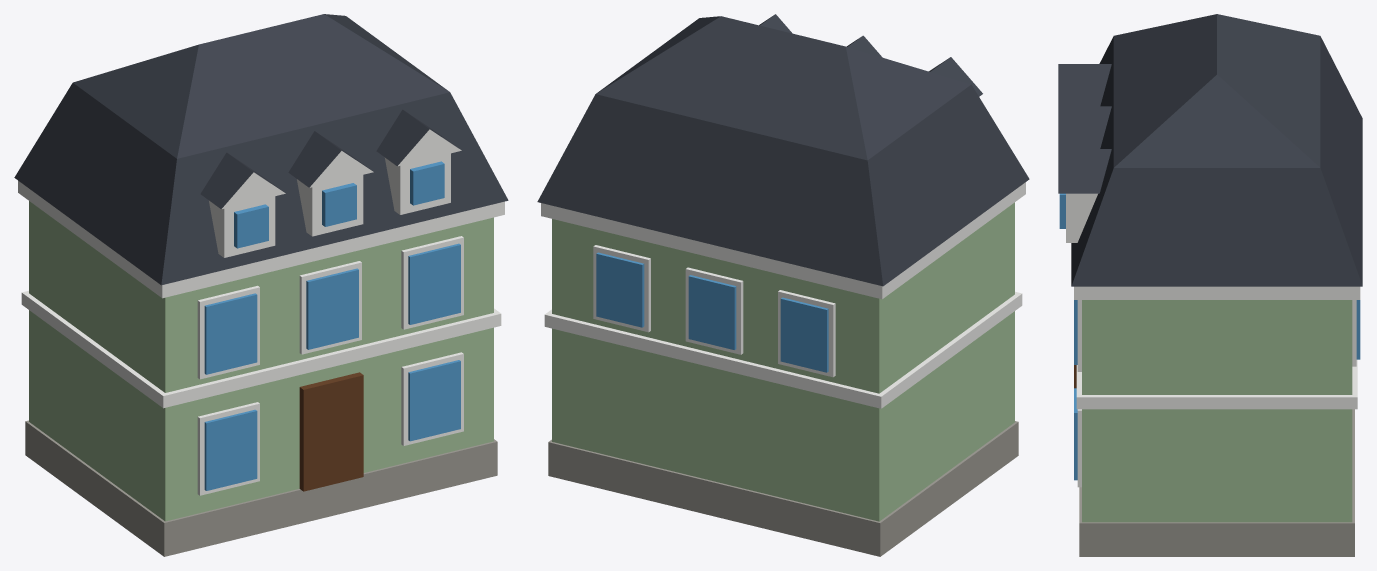
The model's file is 29_baroque_mansard_2.obj.
3 views of the same model, side by side, from view 1: azimuth 30°, elevation 25°; view 2: azimuth 150°, elevation 25°; view 3: azimuth 270°, elevation 25° (orthographic).
Visible parts, largest first — view 1: 29_baroque_mansard_2; view 2: 29_baroque_mansard_2; view 3: 29_baroque_mansard_2.
Boxes of the visible parts, <box> form: 29_baroque_mansard_2: <box>14,14,508,556</box>; 29_baroque_mansard_2: <box>537,14,1029,556</box>; 29_baroque_mansard_2: <box>1058,14,1362,556</box>.
Size of the model in its own units: 1.5 by 1.8 by 1.15.
